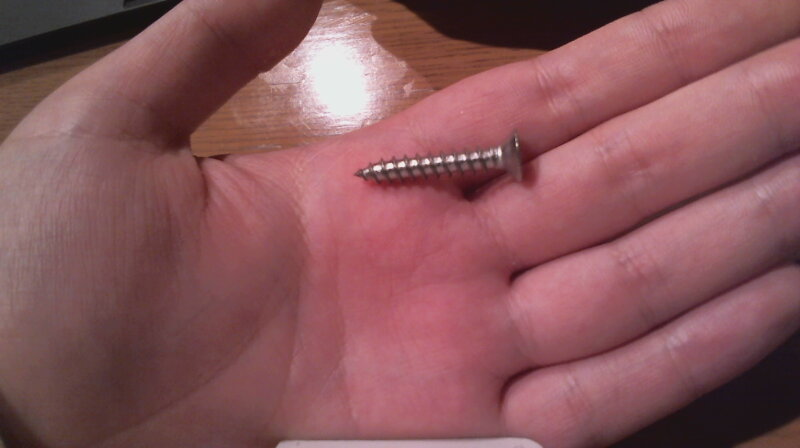S001: (352, 129, 530, 189)
